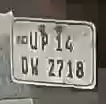1: (53, 32, 63, 54), (64, 61, 74, 78)
2: (48, 59, 56, 78)
4: (63, 34, 75, 55)
7: (56, 58, 66, 78)
8: (75, 59, 85, 80)
D: (16, 55, 30, 77)
K: (28, 57, 41, 77)
P: (40, 32, 50, 51)
U: (28, 30, 39, 54)
